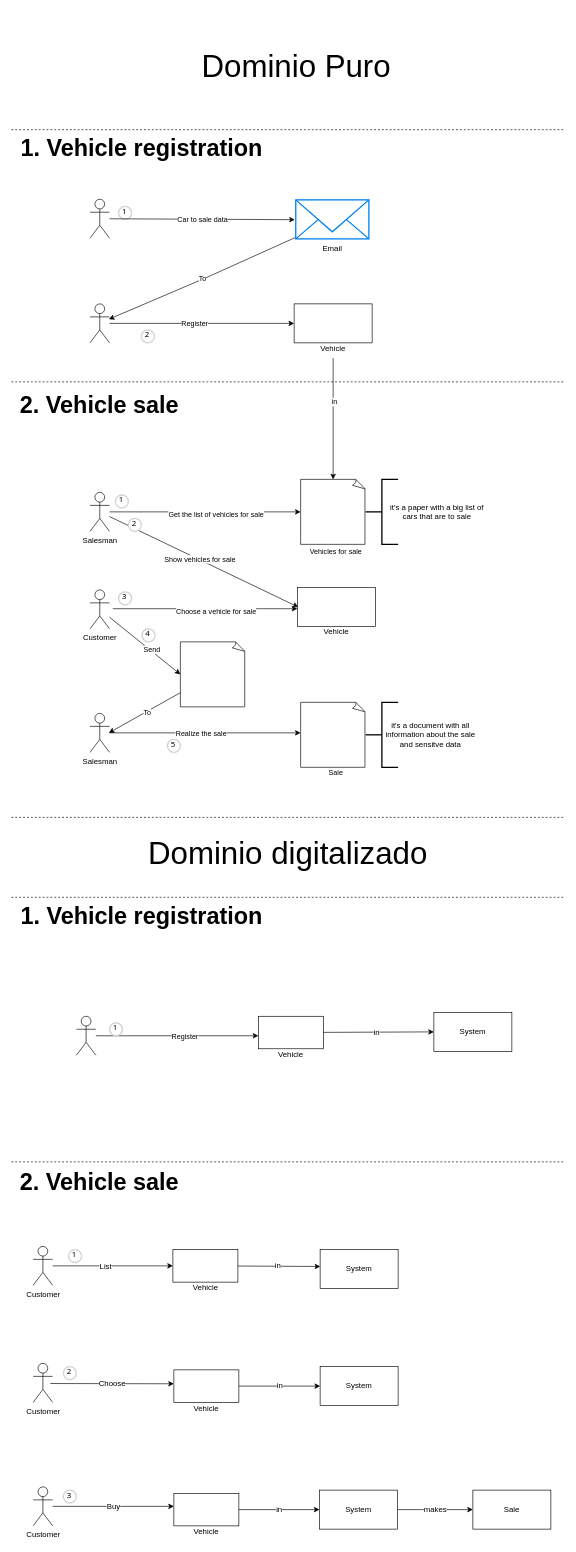
Image size: 576x1552. Some labels were removed from this diagram. The shapes that lost their labels are listed below. From the top down, each one's centre as x and y in pixels, then its label:
At (99,218): "Operator 1".
At (99,323): "Operator 2".
At (212,674): "Documents".
At (86,1035): "Operator".
